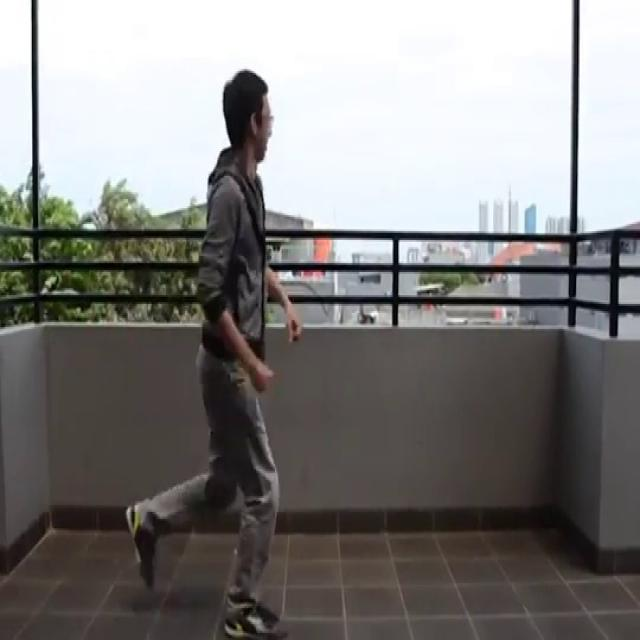normal: (121, 64, 307, 640)
